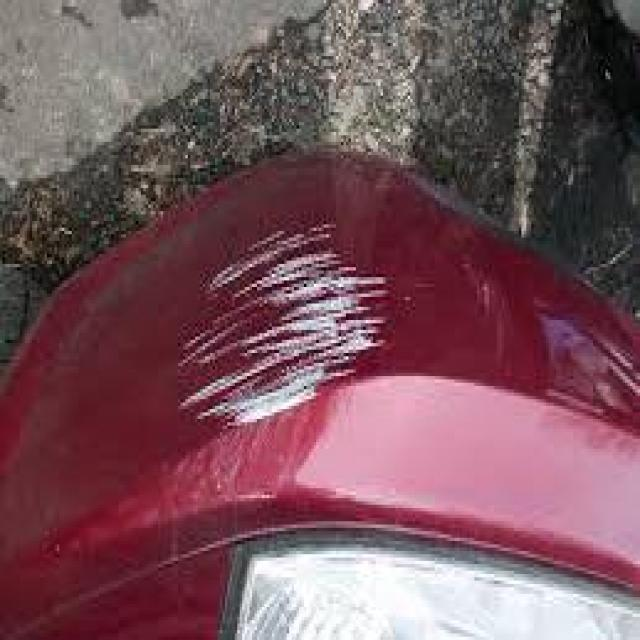scratch: (162, 198, 390, 446)
